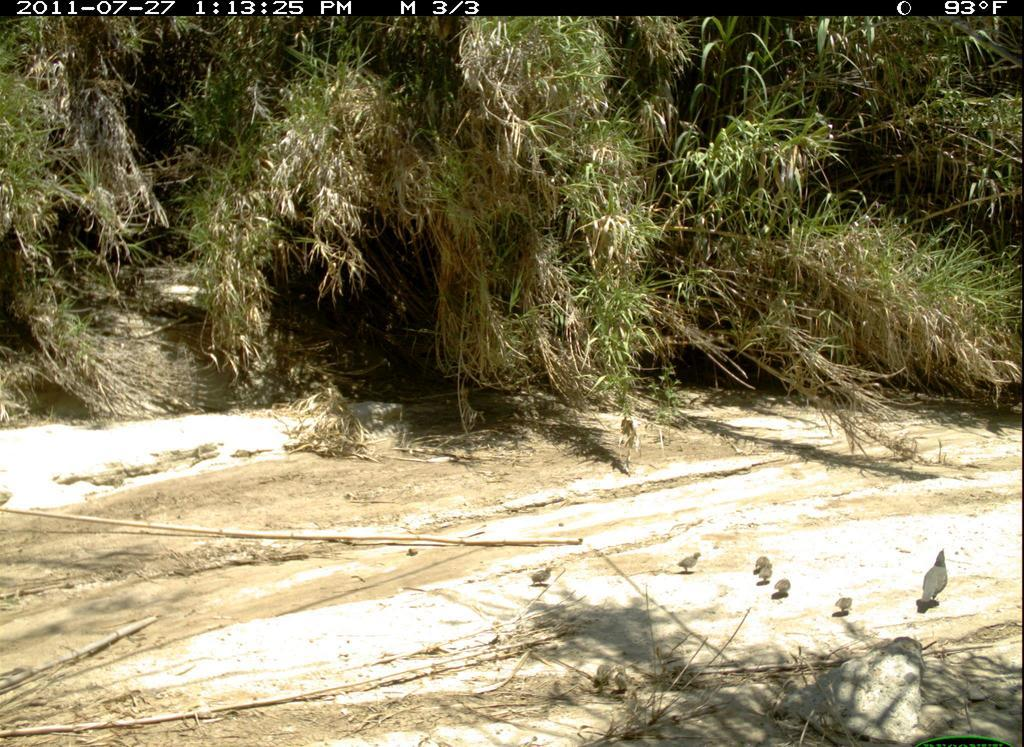bird: (913, 542, 959, 620), (677, 551, 704, 577), (613, 664, 634, 694), (532, 566, 556, 590), (595, 661, 615, 689), (833, 596, 856, 617), (774, 578, 793, 600), (760, 564, 774, 586), (755, 554, 772, 571)
